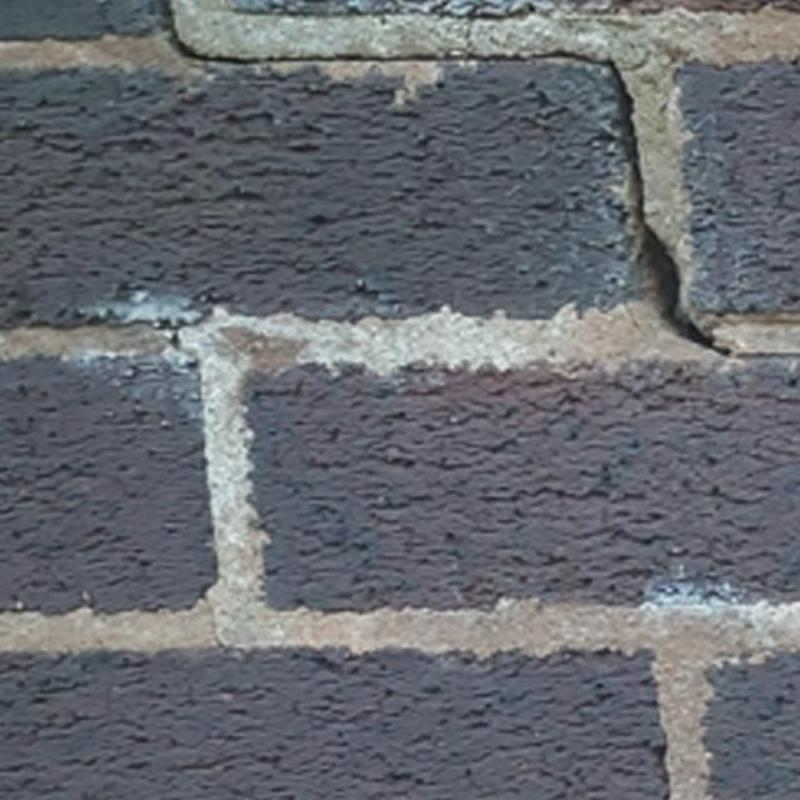pothole: (160, 1, 732, 358)
